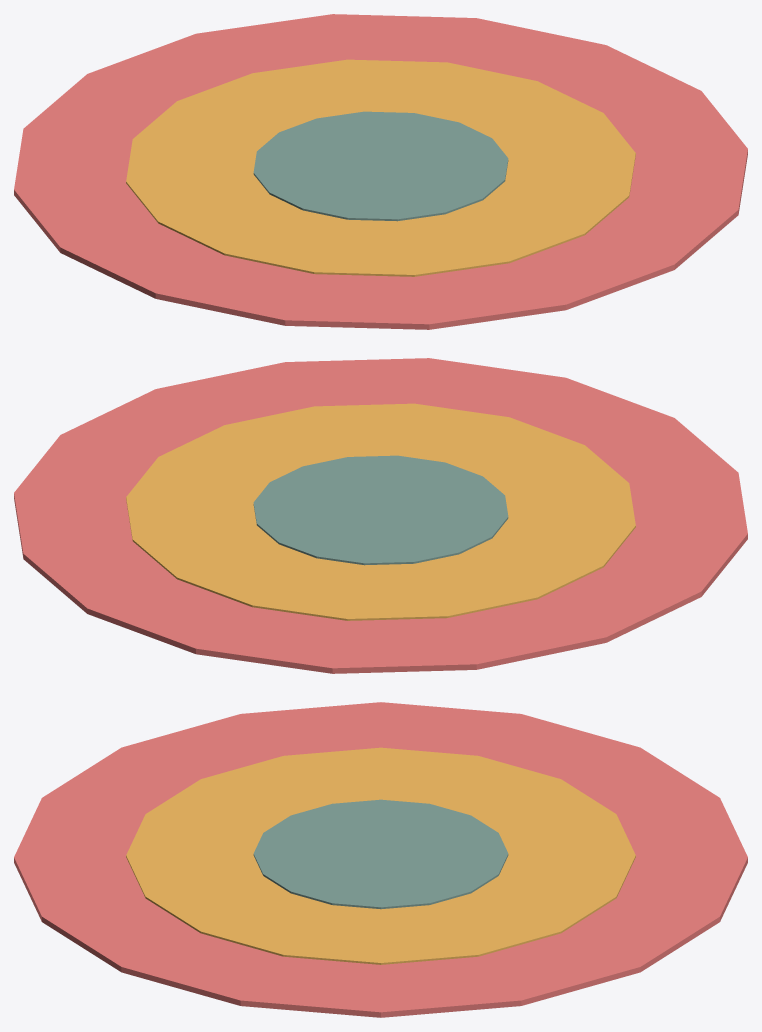
Rendered from round_rug.59cf057243da.glb.
3 views of the same model, one above another, from view 1: azimuth 30°, elevation 25°; view 2: azimuth 150°, elevation 25°; view 3: azimuth 270°, elevation 25° (orthographic).
Visible parts, largest first — view 1: round_rug; view 2: round_rug; view 3: round_rug.
Boxes of the visible parts, <box> form: round_rug: <box>14,14,747,329</box>; round_rug: <box>14,358,747,673</box>; round_rug: <box>14,702,747,1017</box>.
Size of the model in its own units: 1.44 by 0.02 by 1.44.
